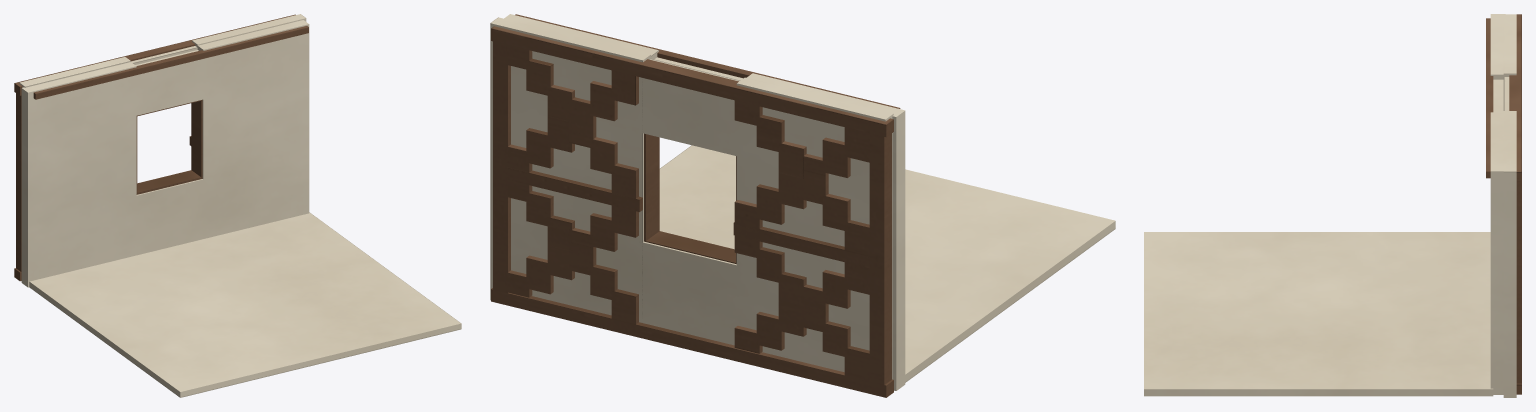
File: med_window.glb
The picture shows the model from 3 angles, left to right: view 1: azimuth 30°, elevation 25°; view 2: azimuth 150°, elevation 25°; view 3: azimuth 270°, elevation 25°; orthographic projection. The views are drawn at different scales.
Visible parts, largest first — view 1: med_window; view 2: med_window; view 3: med_window.
Part boxes in pixels (<box>): med_window: <box>14,14,461,397</box>; med_window: <box>490,14,1115,397</box>; med_window: <box>1144,14,1521,397</box>.
Bounding box in the file's own units: 4.04 × 2.68 × 4.06.
Materials: 1 (1 with a texture image).
